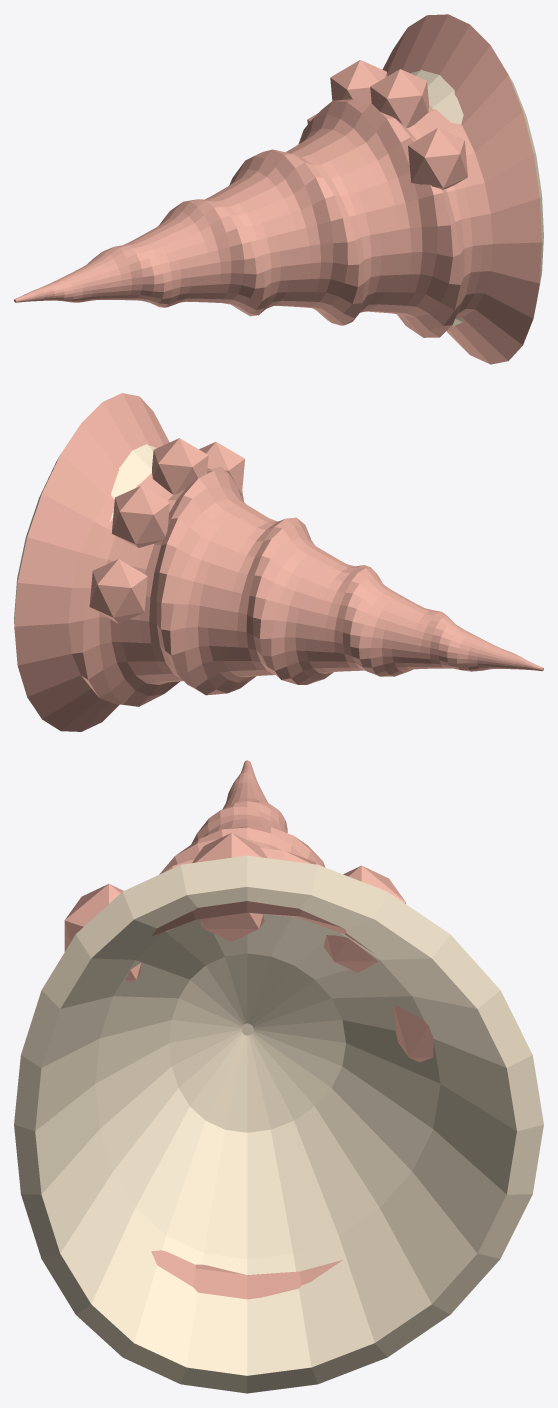
The model's file is shell-conch.glb.
3 views of the same model, one above another, from view 1: azimuth 30°, elevation 25°; view 2: azimuth 150°, elevation 25°; view 3: azimuth 270°, elevation 25° (orthographic). The views are drawn at different scales.
Parts seen in each view (by area): view 1: Pointed spiral conch and cream flared opening, Knobby conch shoulder.003, Knobby conch shoulder.002, Knobby conch shoulder.001; view 2: Pointed spiral conch and cream flared opening, Knobby conch shoulder, Knobby conch shoulder.001, Knobby conch shoulder.002, Knobby conch shoulder.003; view 3: Pointed spiral conch and cream flared opening, Knobby conch shoulder.002, Knobby conch shoulder.001, Knobby conch shoulder.003, Knobby conch shoulder.
Boxes of the visible parts, left/top/right/bottom form: Pointed spiral conch and cream flared opening: left=14, top=14, right=543, bottom=364; Knobby conch shoulder.003: left=408, top=128, right=467, bottom=189; Knobby conch shoulder.002: left=370, top=69, right=429, bottom=127; Knobby conch shoulder.001: left=330, top=60, right=387, bottom=103; Pointed spiral conch and cream flared opening: left=14, top=393, right=543, bottom=731; Knobby conch shoulder: left=89, top=559, right=147, bottom=623; Knobby conch shoulder.001: left=111, top=486, right=169, bottom=547; Knobby conch shoulder.002: left=152, top=438, right=208, bottom=494; Knobby conch shoulder.003: left=199, top=442, right=244, bottom=495; Pointed spiral conch and cream flared opening: left=14, top=760, right=543, bottom=1393; Knobby conch shoulder.002: left=192, top=833, right=267, bottom=941; Knobby conch shoulder.001: left=324, top=865, right=405, bottom=972; Knobby conch shoulder.003: left=64, top=884, right=141, bottom=982; Knobby conch shoulder: left=393, top=1003, right=433, bottom=1062.
Bounding box in the file's own units: 2.17 × 1.48 × 1.32.
